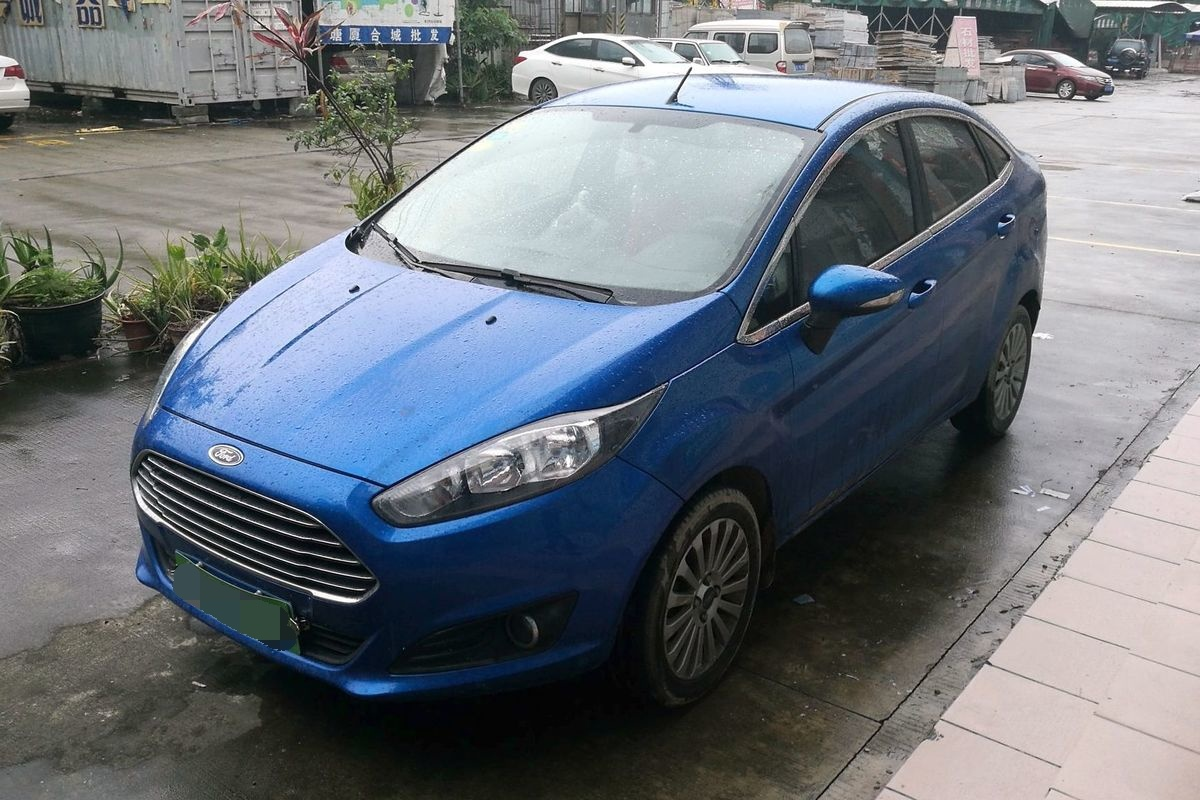family sedan: (143, 73, 1057, 671)
